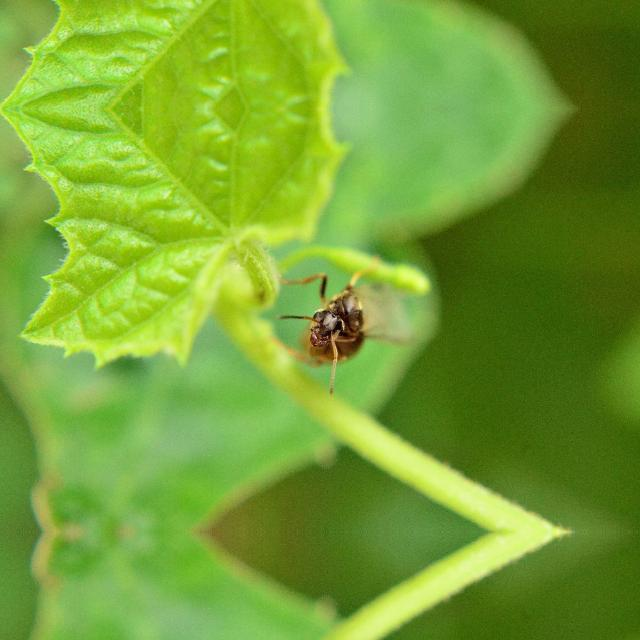Lasius: (281, 261, 391, 393)
